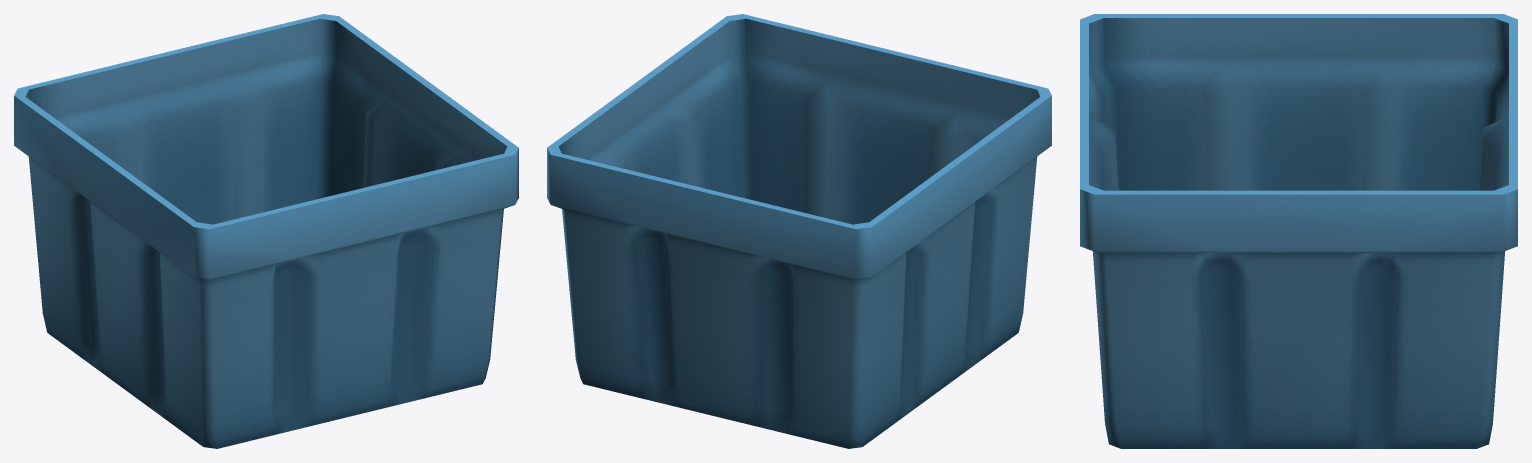
File: Berrry_Box_01.fbx
3 renders of one model, left to right at view 1: azimuth 30°, elevation 25°; view 2: azimuth 150°, elevation 25°; view 3: azimuth 270°, elevation 25°, orthographic. The views are drawn at different scales.
Visible parts, largest first — view 1: Berrry_Box_01_Clone_; view 2: Berrry_Box_01_Clone_; view 3: Berrry_Box_01_Clone_.
Boxes of the visible parts, bbox=[...] form: Berrry_Box_01_Clone_: bbox=[14, 14, 518, 448]; Berrry_Box_01_Clone_: bbox=[547, 14, 1051, 448]; Berrry_Box_01_Clone_: bbox=[1080, 14, 1517, 448].
Bounding box in the file's own units: 300 × 206 × 307.
Materials: 1 (1 with a texture image).
